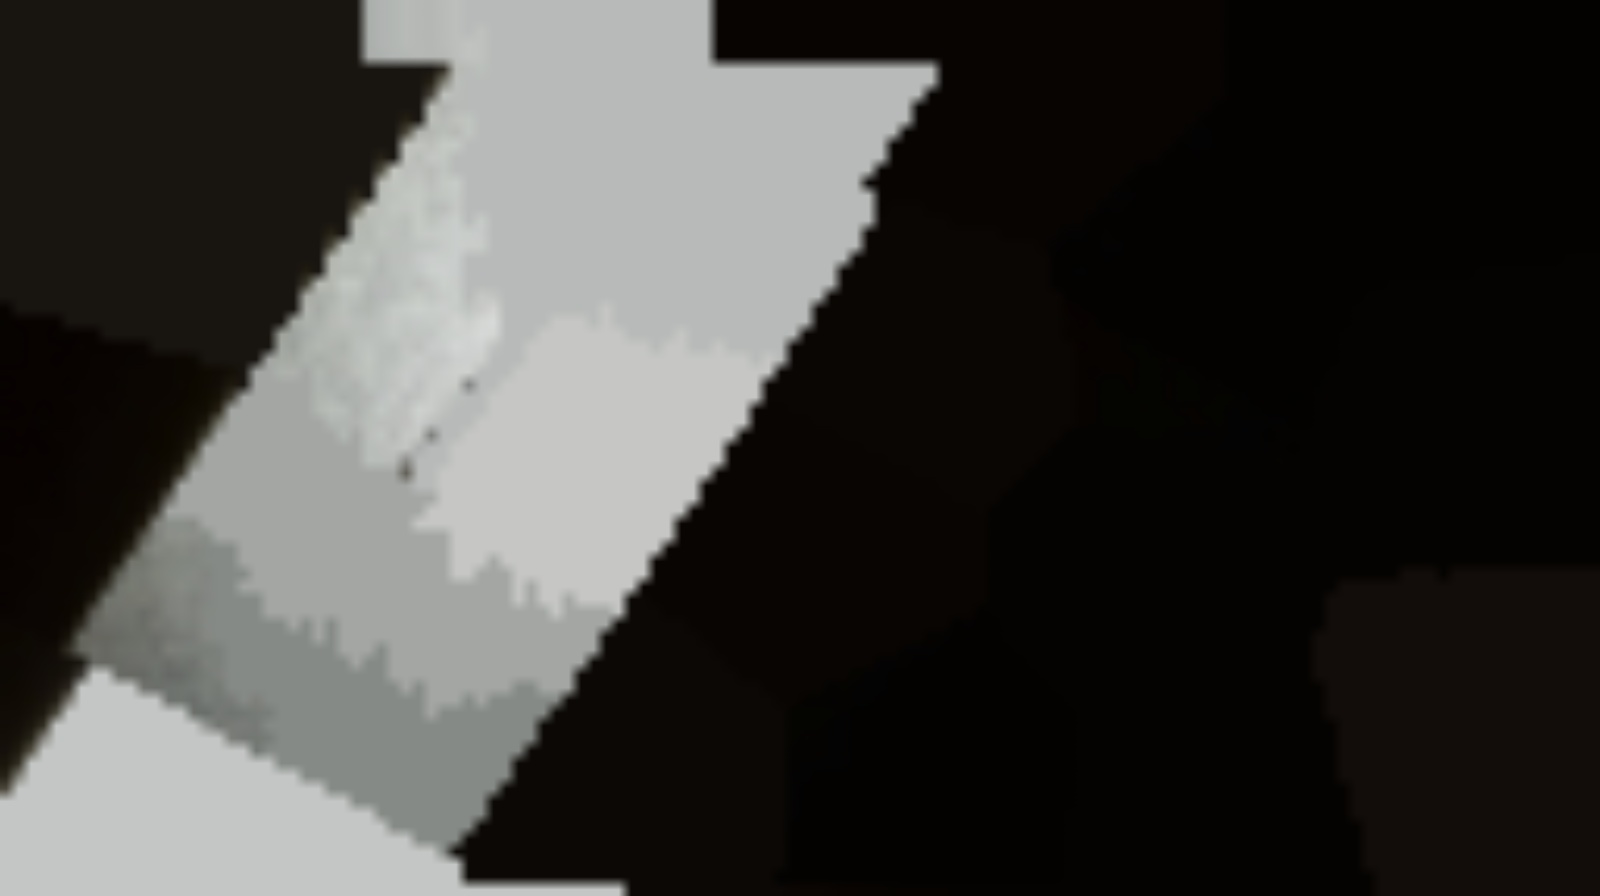S002: (338, 151, 666, 537)
